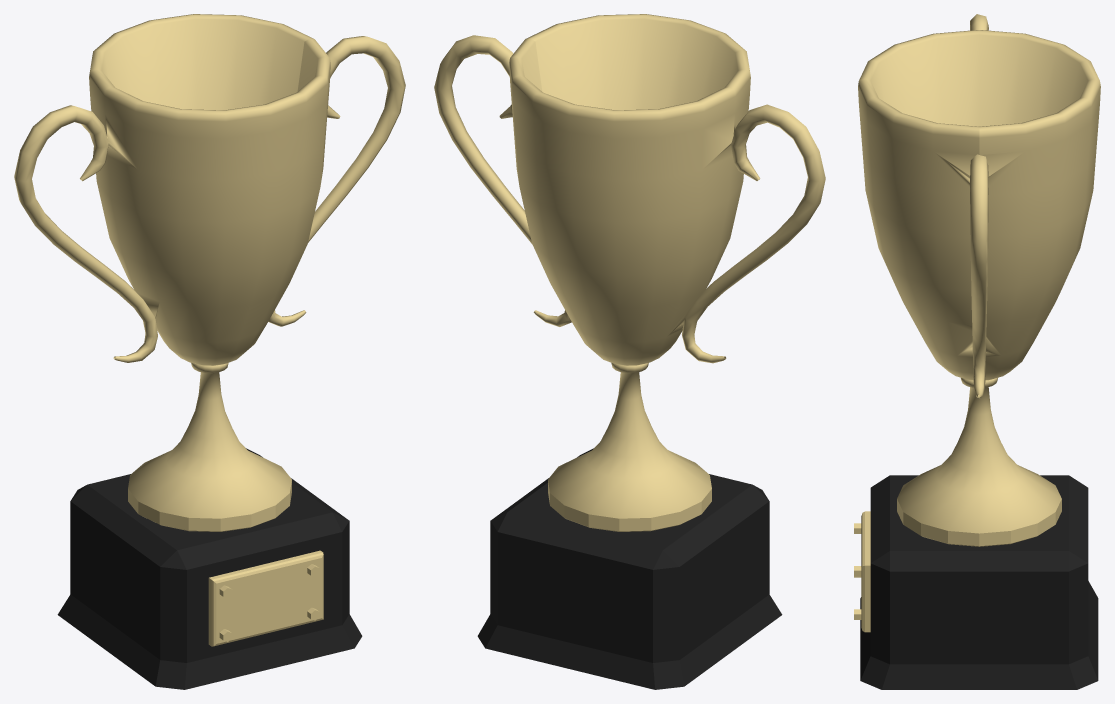
The model's file is trofeu.fbx.
3 views of the same model, side by side, from view 1: azimuth 30°, elevation 25°; view 2: azimuth 150°, elevation 25°; view 3: azimuth 270°, elevation 25° (orthographic).
Visible parts, largest first — view 1: trofeu; view 2: trofeu; view 3: trofeu.
Part boxes in pixels (x1,y1,x2,y2): trofeu: [14, 14, 405, 689]; trofeu: [434, 14, 825, 689]; trofeu: [854, 14, 1100, 689].
Bounding box in the file's own units: 215 × 299 × 118.
